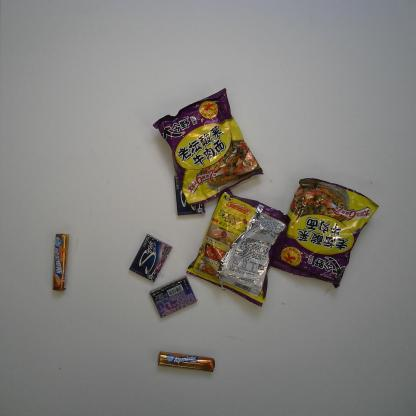Candy: (157, 351, 215, 372), (52, 233, 70, 291)
Gum: (128, 233, 172, 283), (149, 275, 198, 318), (173, 174, 206, 216)
Instant Noodles: (151, 87, 264, 206), (184, 187, 291, 309), (270, 177, 380, 289)
